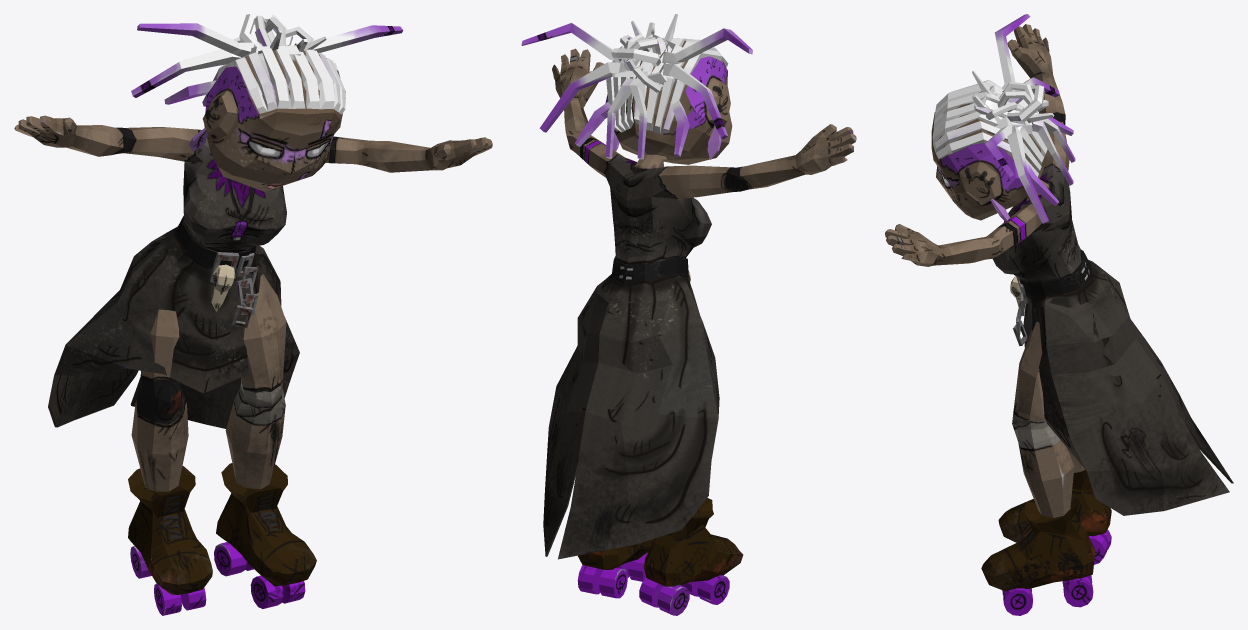
File: bruja_000162.obj
The picture shows the model from 3 angles, left to right: view 1: azimuth 30°, elevation 25°; view 2: azimuth 150°, elevation 25°; view 3: azimuth 270°, elevation 25°; orthographic projection. The views are drawn at different scales.
Visible parts, largest first — view 1: Bruja_Plane.001; view 2: Bruja_Plane.001; view 3: Bruja_Plane.001.
Boxes of the visible parts, box(x1,y1,x2,y2) form: Bruja_Plane.001: box(14, 14, 492, 615); Bruja_Plane.001: box(521, 14, 856, 615); Bruja_Plane.001: box(885, 14, 1233, 615).
Bounding box in the file's own units: 11.34 × 16.53 × 9.72.
